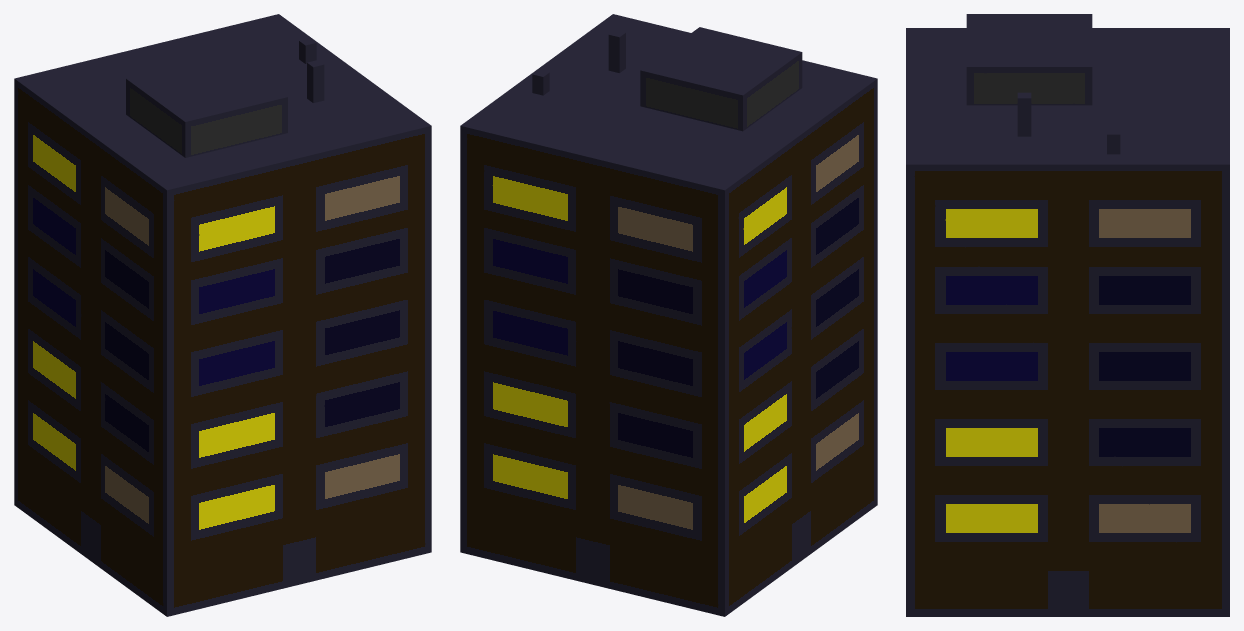
File: edificioE2.fbx
3 views of the same model, side by side, from view 1: azimuth 30°, elevation 25°; view 2: azimuth 150°, elevation 25°; view 3: azimuth 270°, elevation 25° (orthographic). The views are drawn at different scales.
Parts seen in each view (by area): view 1: edificioE2; view 2: edificioE2; view 3: edificioE2.
Boxes of the visible parts, x1=… form: edificioE2: x1=14, y1=14, x2=431, y2=616; edificioE2: x1=460, y1=14, x2=877, y2=616; edificioE2: x1=906, y1=14, x2=1229, y2=616.
Size of the model in its own units: 294 by 491 by 294.
